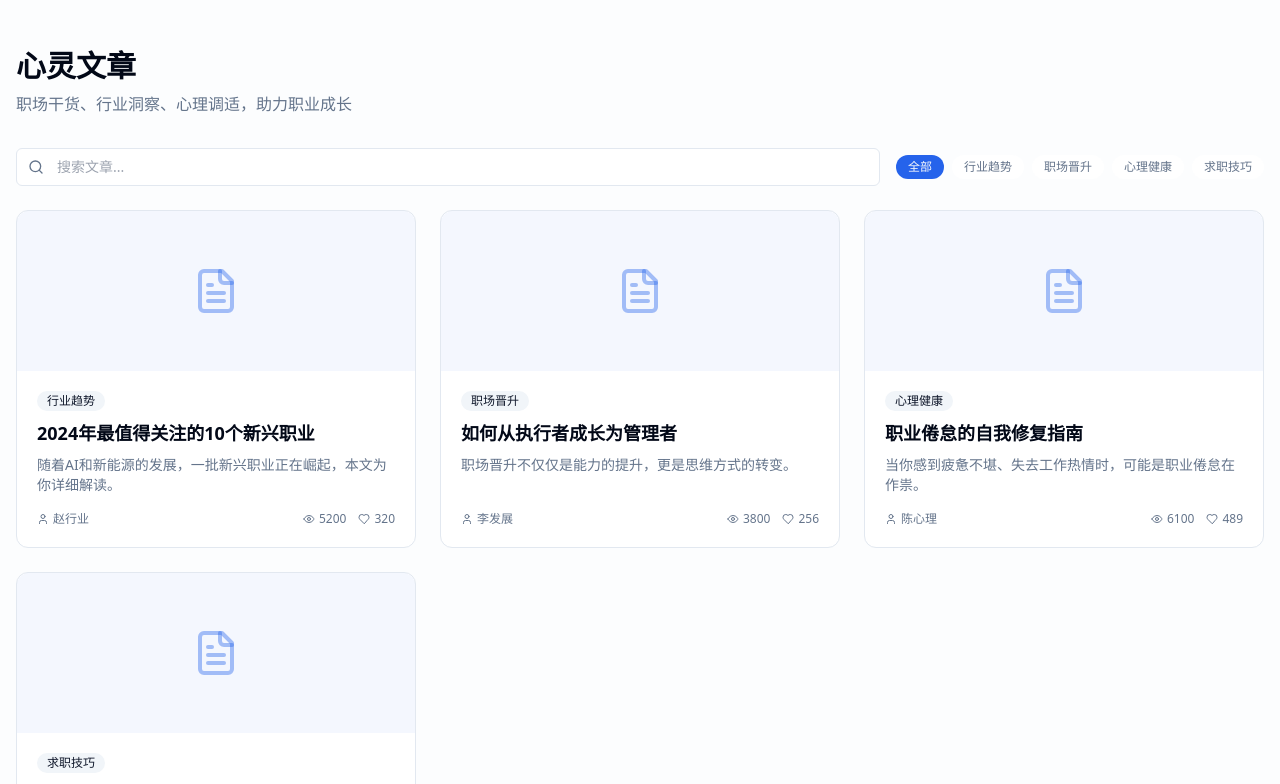
Scenario: Articles Page › filters articles by search term
Type "简历" into the field with placeholder "搜索文章..." at point(448, 167), box left=16, top=148, right=880, bottom=186
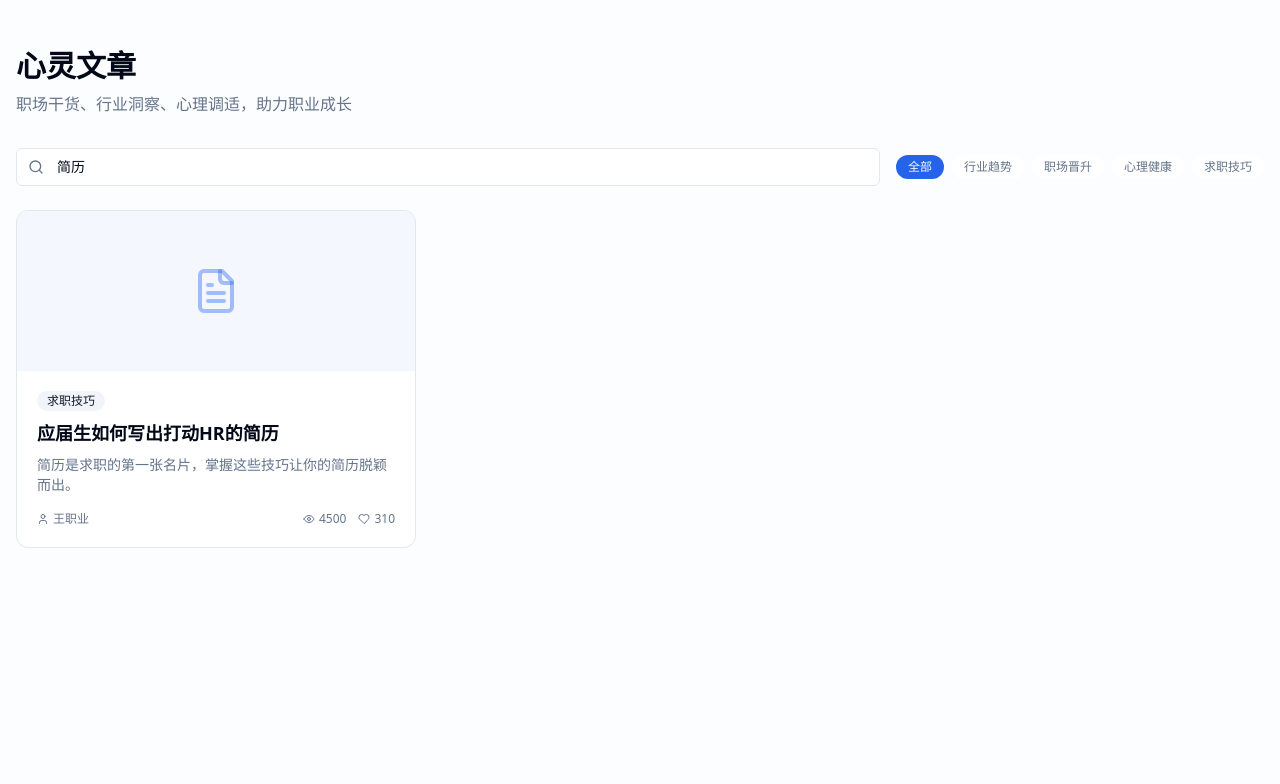
Expected: the heading "应届生如何写出打动HR的简历" is shown, left=37, top=421, right=279, bottom=445
Now the link "职业倦怠的自我修复指南" is gone
